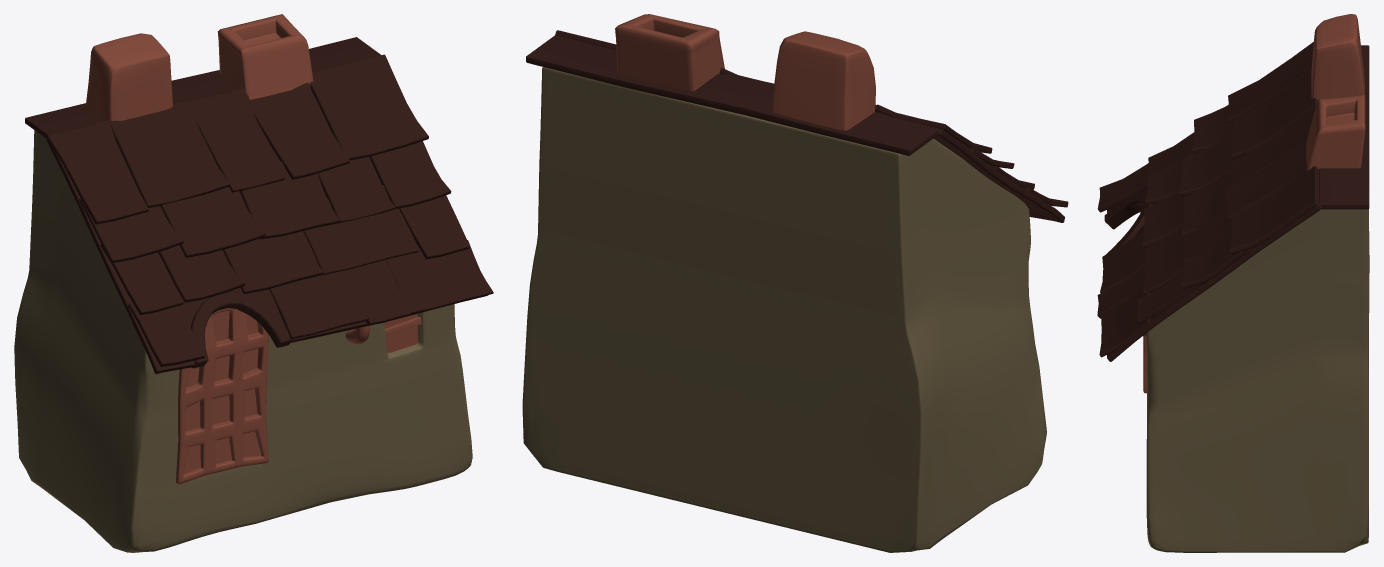
The model's file is P_HouseTwo.obj.
3 views of the same model, side by side, from view 1: azimuth 30°, elevation 25°; view 2: azimuth 150°, elevation 25°; view 3: azimuth 270°, elevation 25° (orthographic). The views are drawn at different scales.
Visible parts, largest first — view 1: P_HouseTwo; view 2: P_HouseTwo; view 3: P_HouseTwo.
Boxes of the visible parts, x1,y1,x2,y2 form: P_HouseTwo: (14, 14, 493, 552); P_HouseTwo: (522, 14, 1068, 552); P_HouseTwo: (1097, 14, 1369, 552).
Bounding box in the file's own units: 3 × 3.47 × 2.07.
